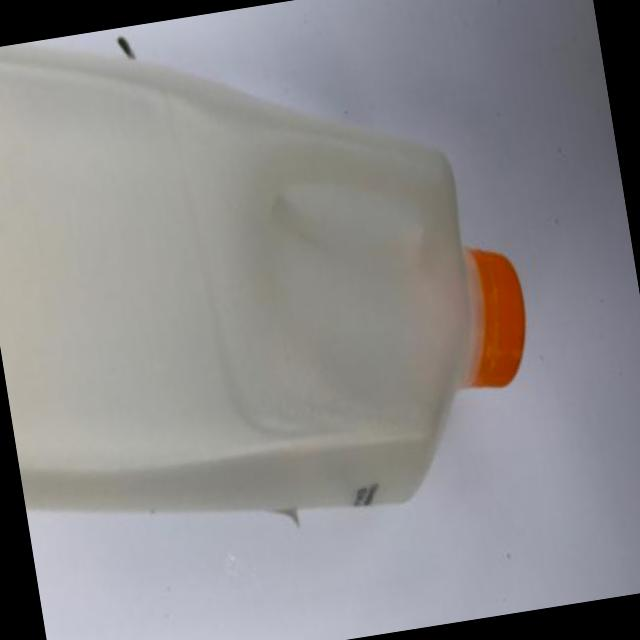Recycle: (0, 0, 570, 612)
